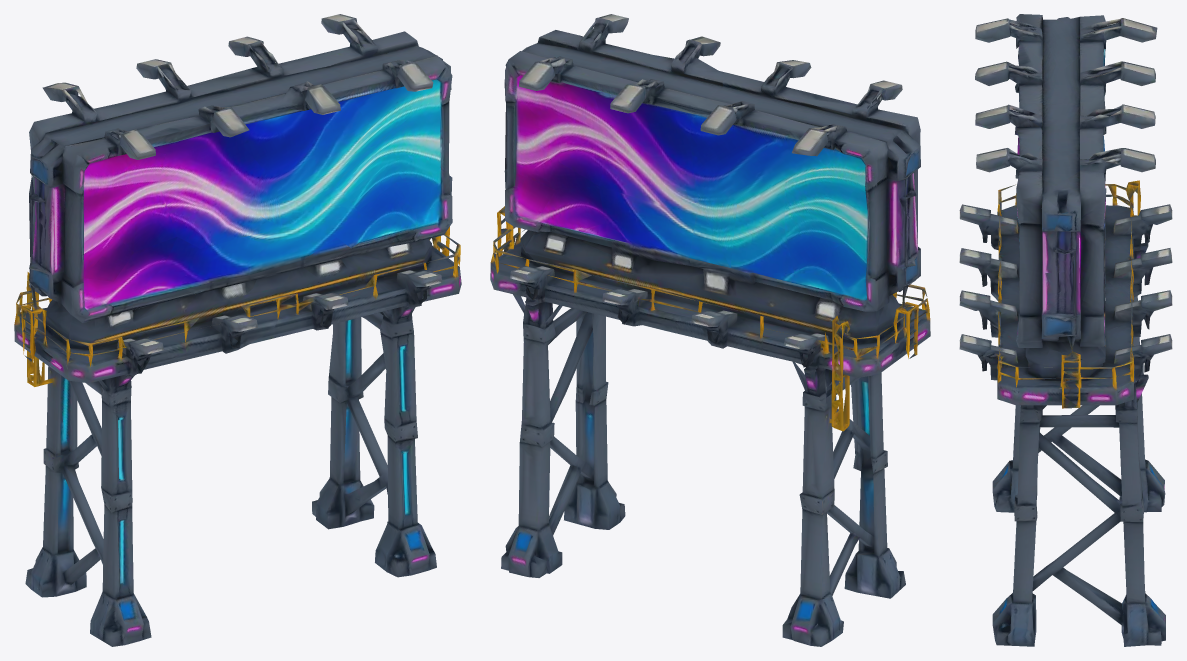
The model's file is giant-billboard.glb.
The picture shows the model from 3 angles, left to right: view 1: azimuth 30°, elevation 25°; view 2: azimuth 150°, elevation 25°; view 3: azimuth 270°, elevation 25°; orthographic projection. The views are drawn at different scales.
Parts seen in each view (by area): view 1: giant-billboard; view 2: giant-billboard; view 3: giant-billboard.
Part boxes in pixels (left/top/right/bottom): giant-billboard: left=14, top=14, right=461, bottom=646; giant-billboard: left=490, top=14, right=930, bottom=646; giant-billboard: left=959, top=14, right=1172, bottom=646.
Size of the model in its own units: 6.93 by 8 by 3.19.
1 material, 1 textured.
